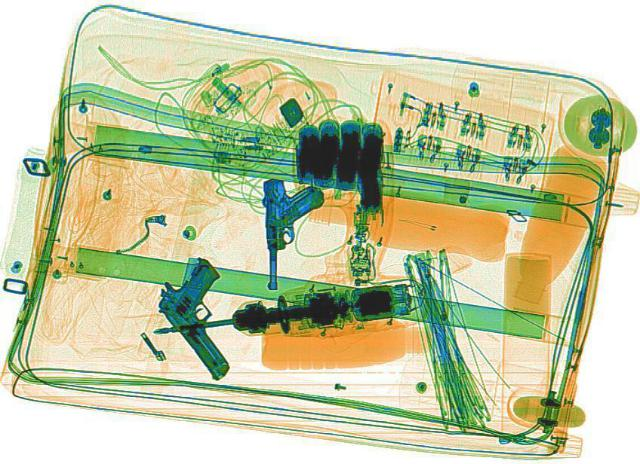Gun: (134, 253, 284, 380), (260, 176, 328, 288)
